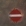No entry: (6, 5, 21, 21)
